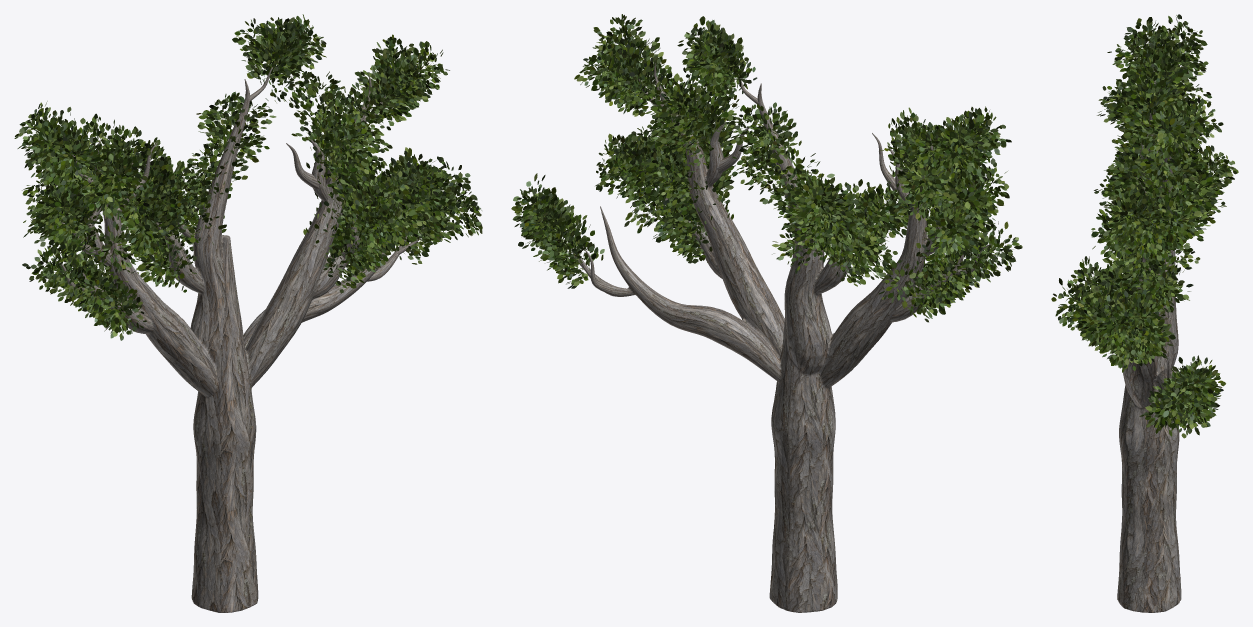
The model's file is great-branching-bough-leafy-v01.glb.
3 views of the same model, side by side, from view 1: azimuth 30°, elevation 25°; view 2: azimuth 150°, elevation 25°; view 3: azimuth 270°, elevation 25° (orthographic). The views are drawn at different scales.
Visible parts, largest first — view 1: Open canopy — individual leaves along twigs, Great branching bough — pale deadwood; view 2: Open canopy — individual leaves along twigs, Great branching bough — pale deadwood; view 3: Open canopy — individual leaves along twigs, Great branching bough — pale deadwood.
Boxes of the visible parts, <box> form: Open canopy — individual leaves along twigs: <box>14,14,482,340</box>; Great branching bough — pale deadwood: <box>52,61,431,612</box>; Open canopy — individual leaves along twigs: <box>511,14,1022,322</box>; Great branching bough — pale deadwood: <box>565,63,991,612</box>; Open canopy — individual leaves along twigs: <box>1051,14,1238,438</box>; Great branching bough — pale deadwood: <box>1117,68,1181,612</box>.
Size of the model in its own units: 5.7 by 6.51 by 2.07.
2 materials, 2 textured.
